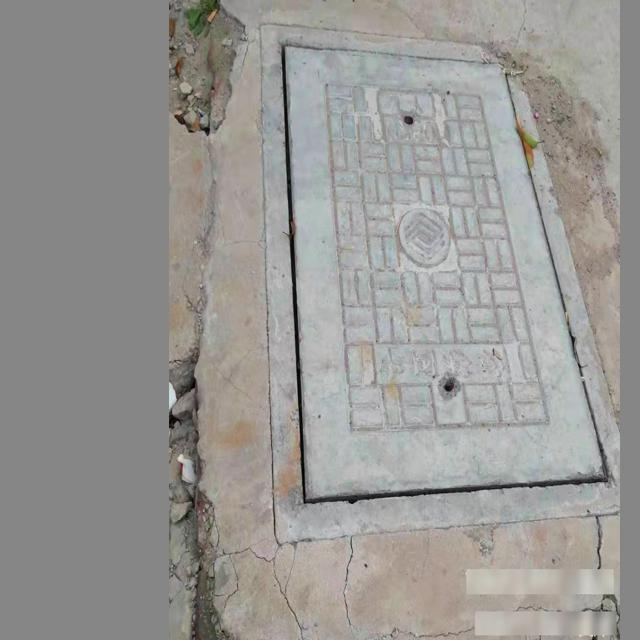good: (261, 22, 620, 542)
